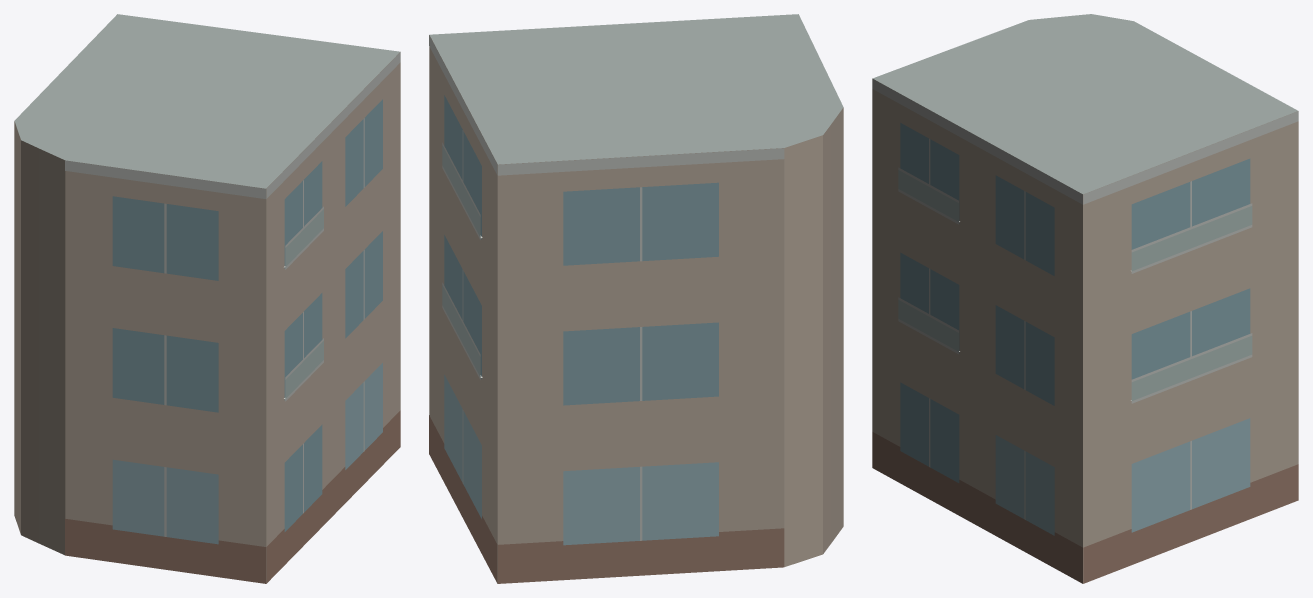
The model's file is survey-upis-32641342.glb.
The picture shows the model from 3 angles, left to right: view 1: azimuth 30°, elevation 25°; view 2: azimuth 150°, elevation 25°; view 3: azimuth 270°, elevation 25°; orthographic projection. The views are drawn at different scales.
Parts seen in each view (by area): view 1: survey-upis-32641342.tmp; view 2: survey-upis-32641342.tmp; view 3: survey-upis-32641342.tmp.
Part boxes in pixels (bbox=[...]): survey-upis-32641342.tmp: bbox=[14, 14, 400, 583]; survey-upis-32641342.tmp: bbox=[429, 14, 843, 583]; survey-upis-32641342.tmp: bbox=[872, 14, 1298, 583].
Size of the model in its own units: 9.1 by 9.15 by 9.08.
